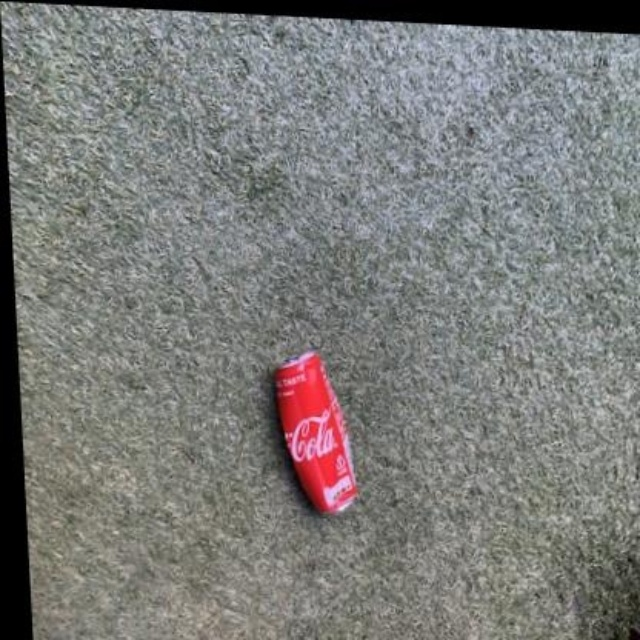trash: (274, 349, 355, 512)
